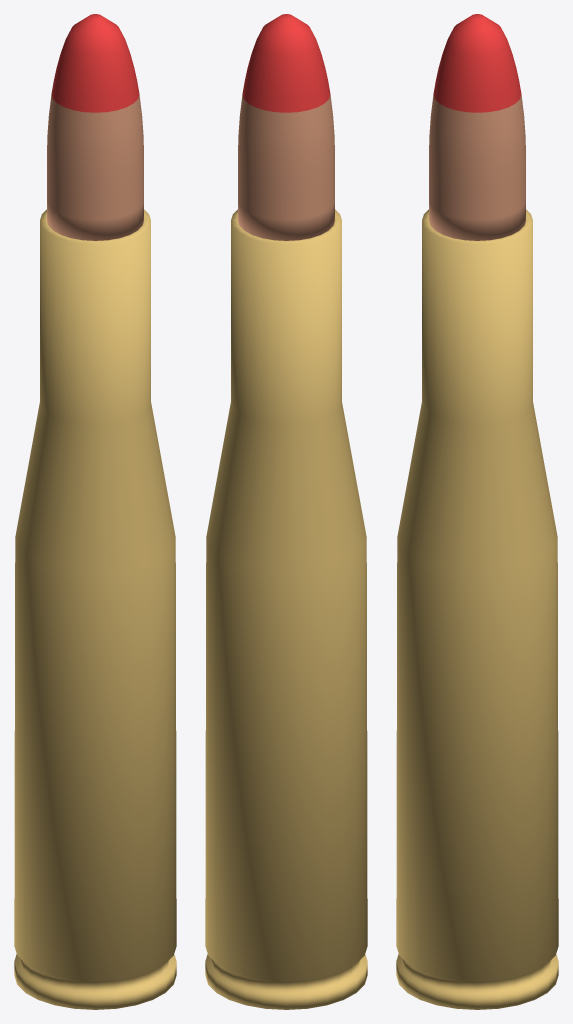
The picture shows the model from 3 angles, left to right: view 1: azimuth 30°, elevation 25°; view 2: azimuth 150°, elevation 25°; view 3: azimuth 270°, elevation 25°; orthographic projection.
Parts seen in each view (by area): view 1: vaina, bala_cuerpo, punta; view 2: vaina, bala_cuerpo, punta; view 3: vaina, bala_cuerpo, punta.
Part boxes in pixels (bbox=[...]): vaina: bbox=[14, 209, 176, 1009]; bala_cuerpo: bbox=[47, 94, 143, 240]; punta: bbox=[51, 14, 139, 112]; vaina: bbox=[205, 209, 367, 1009]; bala_cuerpo: bbox=[238, 94, 334, 240]; punta: bbox=[242, 14, 330, 112]; vaina: bbox=[396, 209, 558, 1009]; bala_cuerpo: bbox=[429, 94, 525, 240]; punta: bbox=[433, 14, 521, 112].
Size of the model in its own units: 0.013 by 0.0848 by 0.013.
